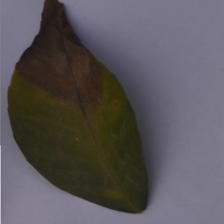black spot: (0, 0, 128, 108)
